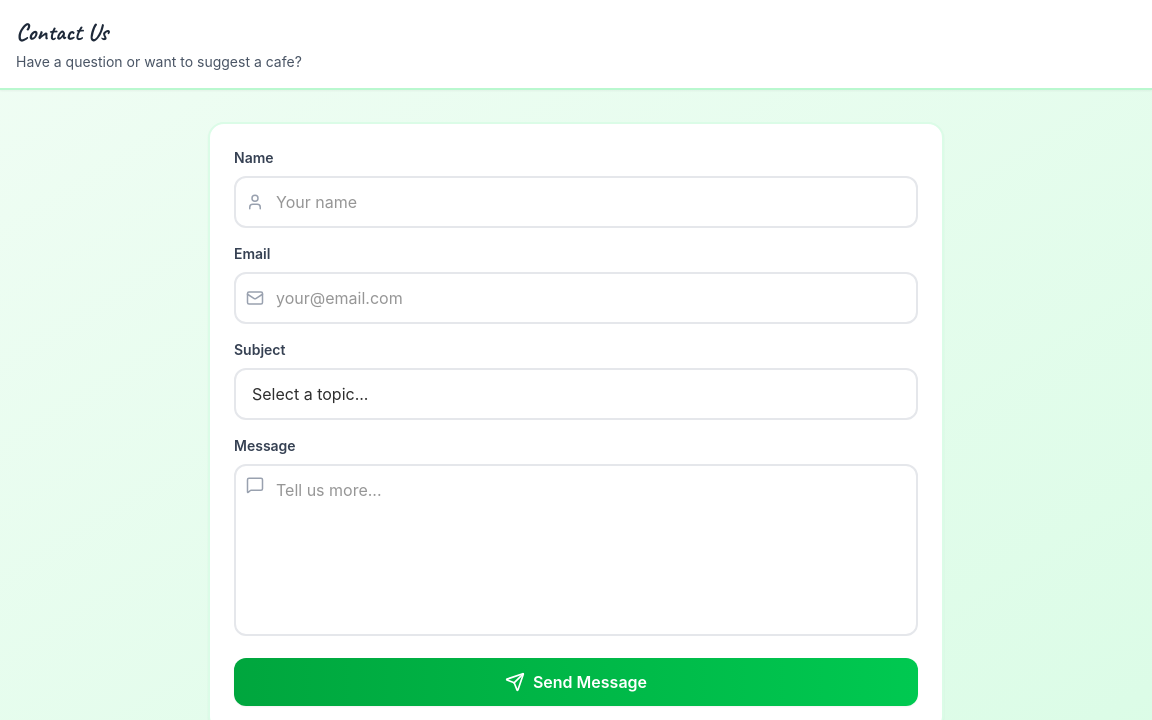
Test case: ContactPage › should handle API errors gracefully
Type "John Doe" into the field with placeholder "Your name" at (576, 202), box [234,176,918,228]
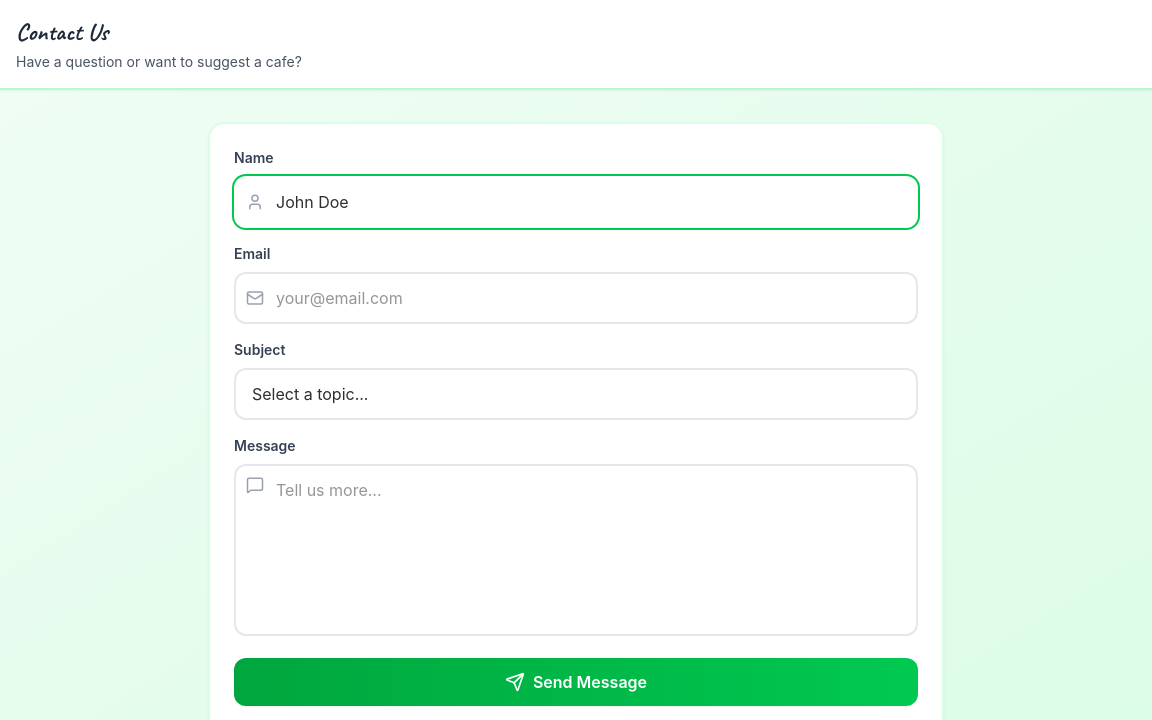
Type "john@example.com" into the field with placeholder "your@email.com" at (576, 298), box [234,272,918,324]
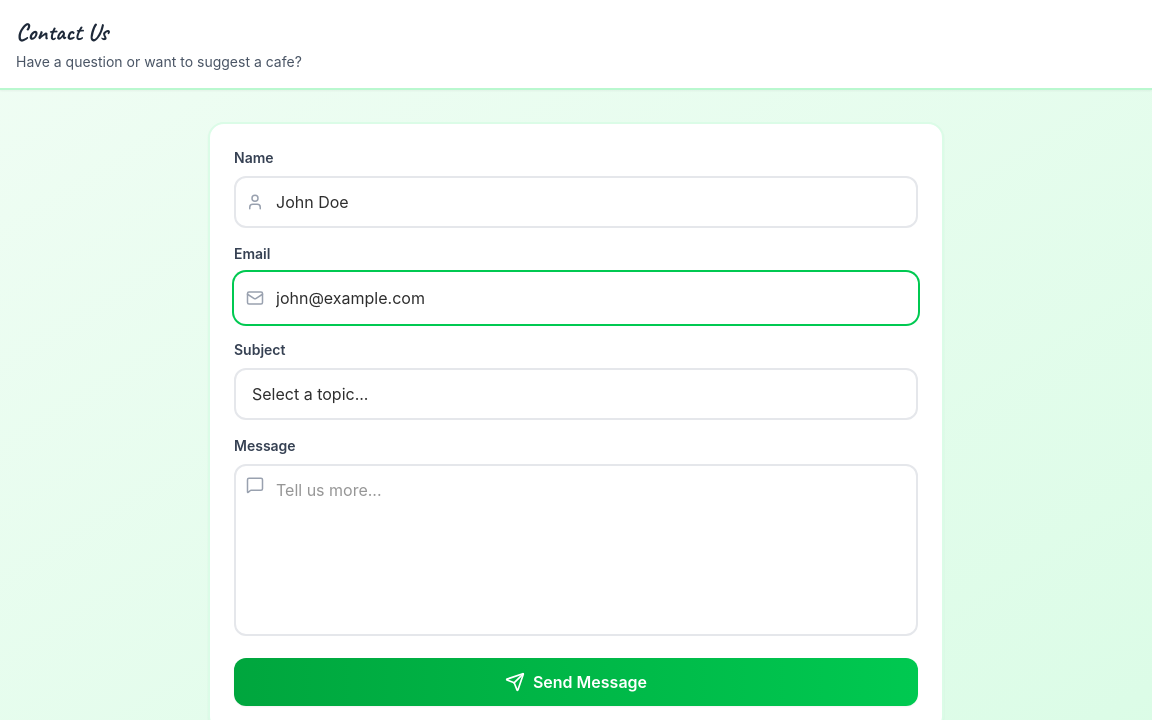
Select "General Inquiry" in the dropdown labelled "Subject" at (576, 394), box [234,368,918,420]
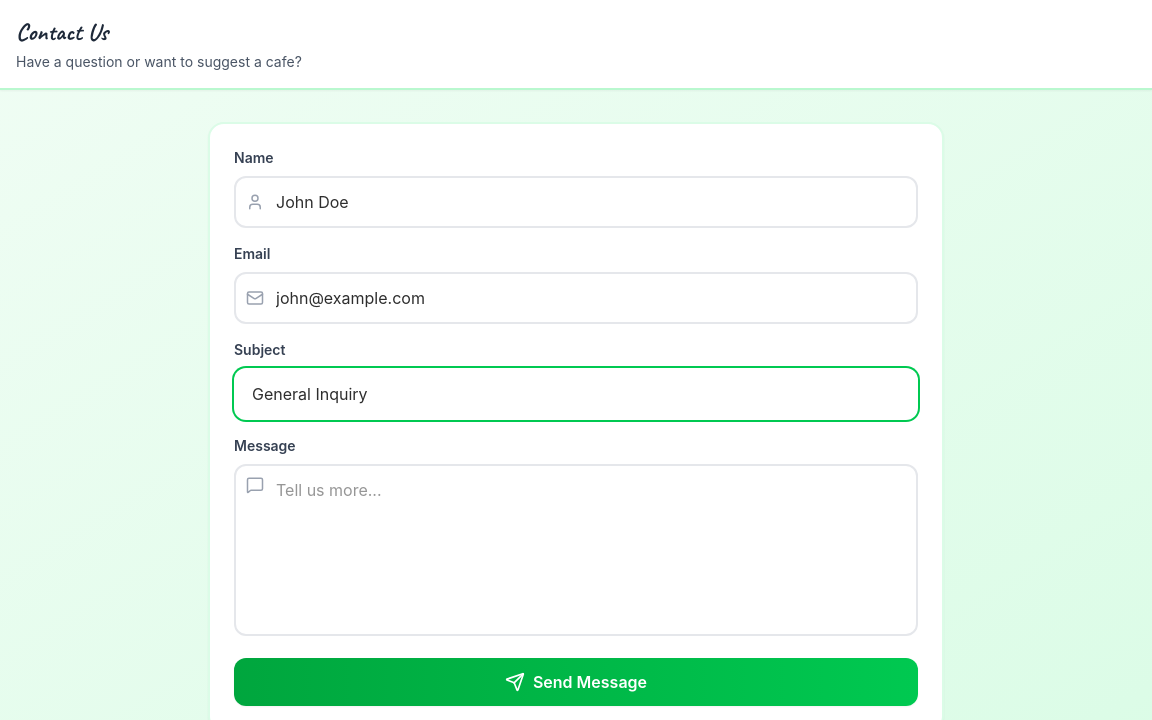
Type "Test message" into the text box with placeholder "Tell us more..." at (576, 550), box [234,464,918,636]
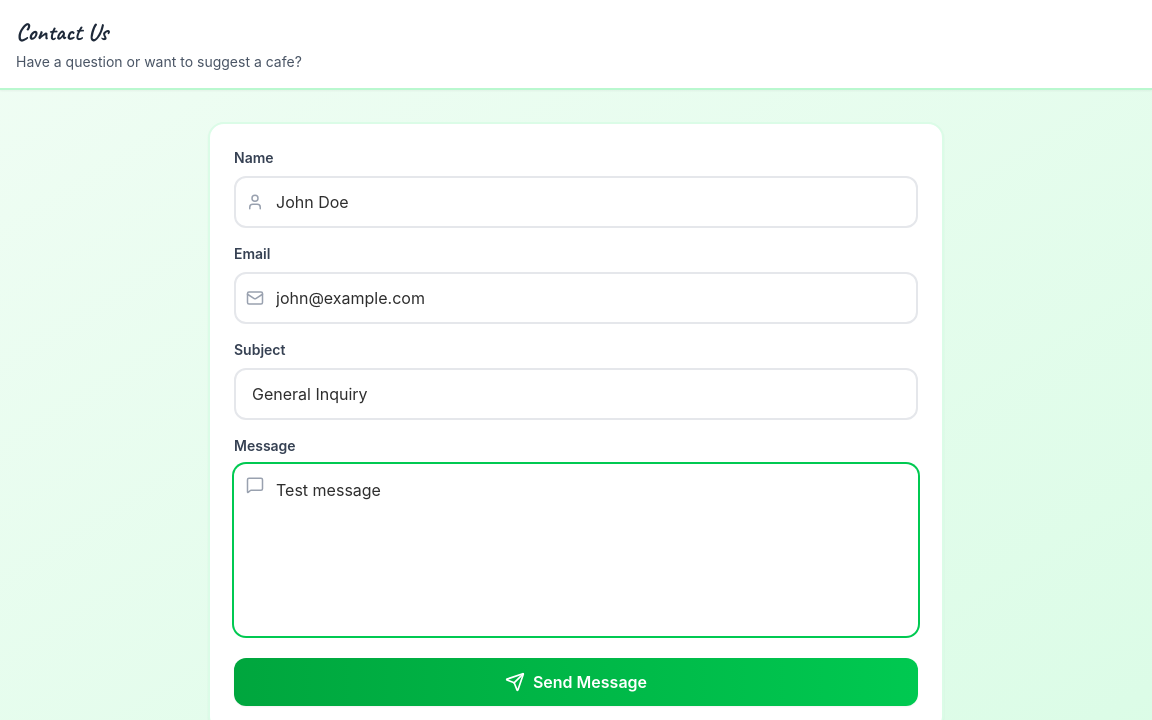
Click the button "Send Message" at (576, 682), box [234,658,918,706]
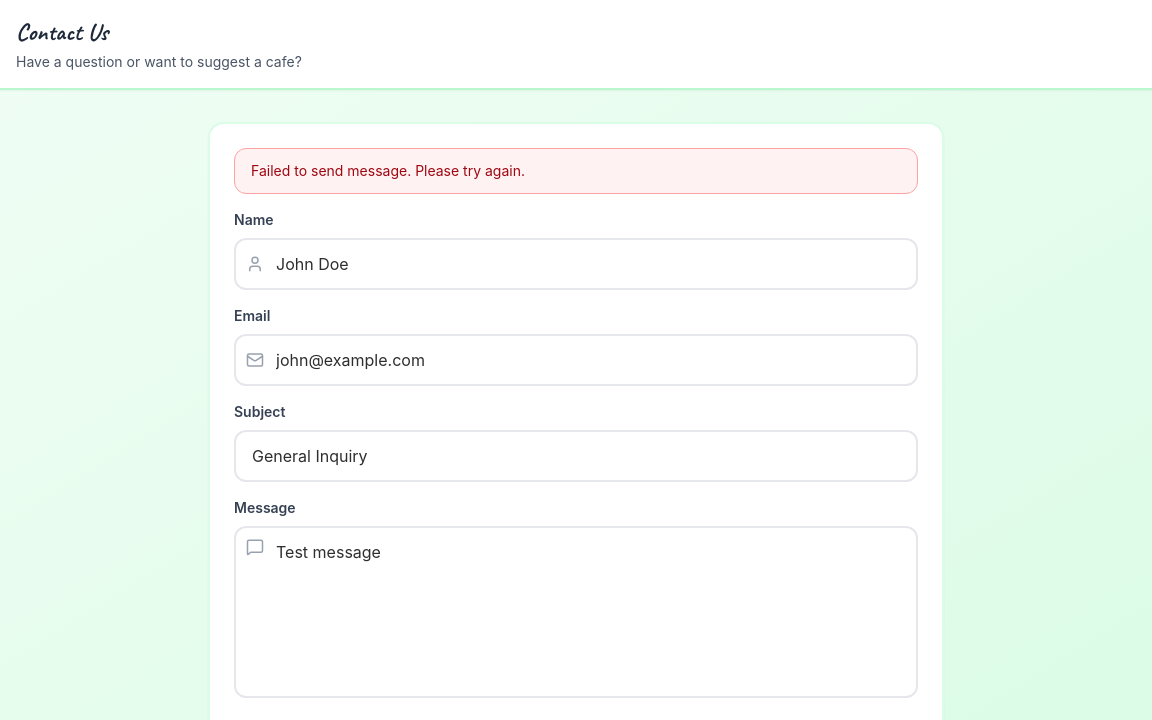
Check: the message reads "Failed to send message. Please try again.", box [251,162,525,179]
